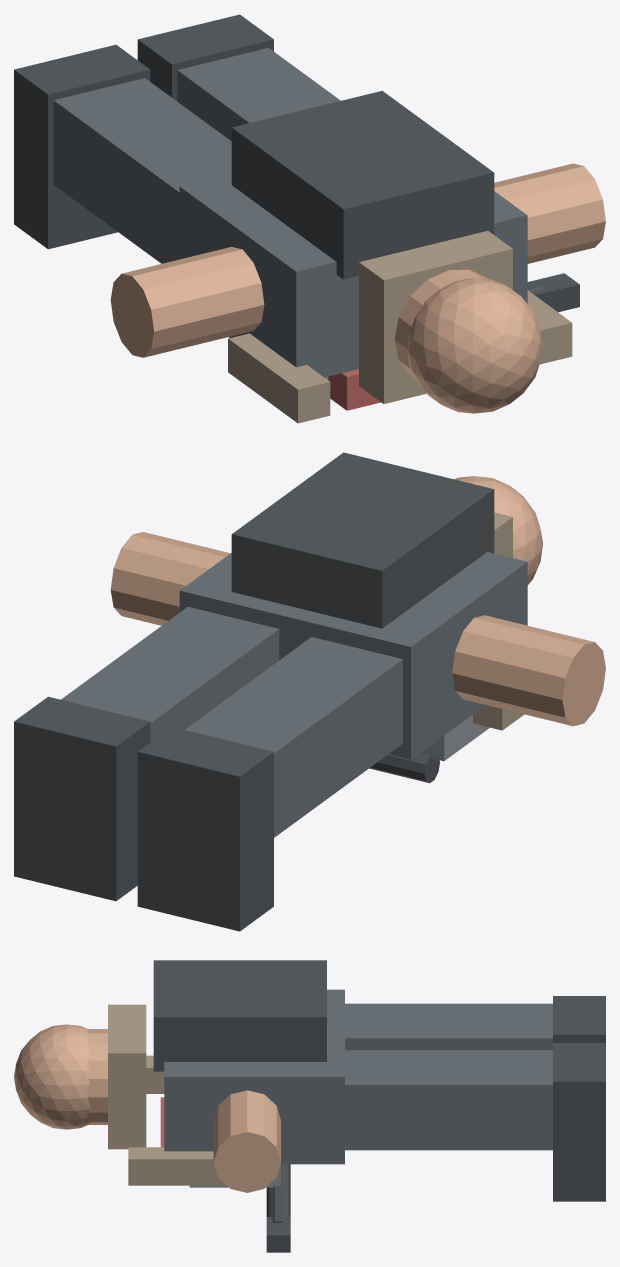
File: enemy_commander.glb
The picture shows the model from 3 angles, top to bottom: view 1: azimuth 30°, elevation 25°; view 2: azimuth 150°, elevation 25°; view 3: azimuth 270°, elevation 25°; orthographic projection. The views are drawn at different scales.
Visible parts, largest first — view 1: part_10, part_0, part_2, part_5, part_6, part_8, part_11, part_1, part_7, part_9, part_13, part_4 (+3 smaller); view 2: part_10, part_8, part_9, part_0, part_2, part_1, part_6, part_7, part_5, part_15, part_3, part_13 (+1 smaller); view 3: part_1, part_10, part_2, part_0, part_9, part_5, part_7, part_11, part_14, part_8, part_4, part_15 (+2 smaller).
Part boxes in pixels (x1=…): part_10: x1=231, y1=90, x2=494, y2=279; part_0: x1=53, y1=78, x2=231, y2=263; part_2: x1=179, y1=174, x2=527, y2=377; part_5: x1=407, y1=278, x2=542, y2=413; part_6: x1=110, y1=247, x2=264, y2=357; part_8: x1=14, y1=44, x2=150, y2=249; part_11: x1=359, y1=231, x2=512, y2=403; part_1: x1=177, y1=48, x2=340, y2=140; part_7: x1=494, y1=163, x2=605, y2=263; part_9: x1=137, y1=14, x2=273, y2=101; part_13: x1=228, y1=333, x2=330, y2=423; part_4: x1=394, y1=269, x2=488, y2=378; part_10: x1=231, y1=452, x2=494, y2=628; part_8: x1=137, y1=727, x2=273, y2=931; part_9: x1=14, y1=696, x2=150, y2=901; part_0: x1=185, y1=637, x2=402, y2=837; part_2: x1=179, y1=552, x2=527, y2=759; part_1: x1=61, y1=606, x2=279, y2=742; part_6: x1=452, y1=615, x2=605, y2=726; part_7: x1=110, y1=532, x2=230, y2=625; part_5: x1=454, y1=476, x2=542, y2=584; part_15: x1=369, y1=753, x2=439, y2=783; part_3: x1=420, y1=714, x2=489, y2=761; part_13: x1=473, y1=704, x2=524, y2=730; part_1: x1=345, y1=1050, x2=552, y2=1150; part_10: x1=153, y1=960, x2=326, y2=1071; part_2: x1=164, y1=989, x2=344, y2=1164; part_0: x1=345, y1=1003, x2=552, y2=1050; part_9: x1=553, y1=1043, x2=605, y2=1201; part_5: x1=14, y1=1024, x2=90, y2=1129; part_7: x1=213, y1=1090, x2=280, y2=1192; part_11: x1=108, y1=1004, x2=146, y2=1149; part_14: x1=128, y1=1147, x2=226, y2=1185; part_8: x1=553, y1=996, x2=605, y2=1042; part_4: x1=87, y1=1029, x2=107, y2=1124; part_15: x1=266, y1=1164, x2=290, y2=1222.
Size of the model in its own units: 1.71 by 0.8126 by 2.46.
